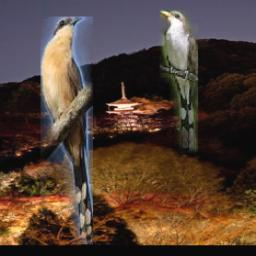Cuckoo: (40, 17, 93, 244), (161, 11, 199, 154)
